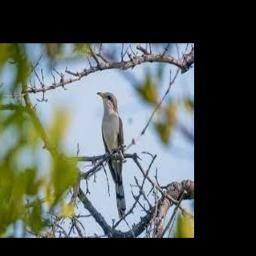Cuckoo: (96, 91, 126, 218)
